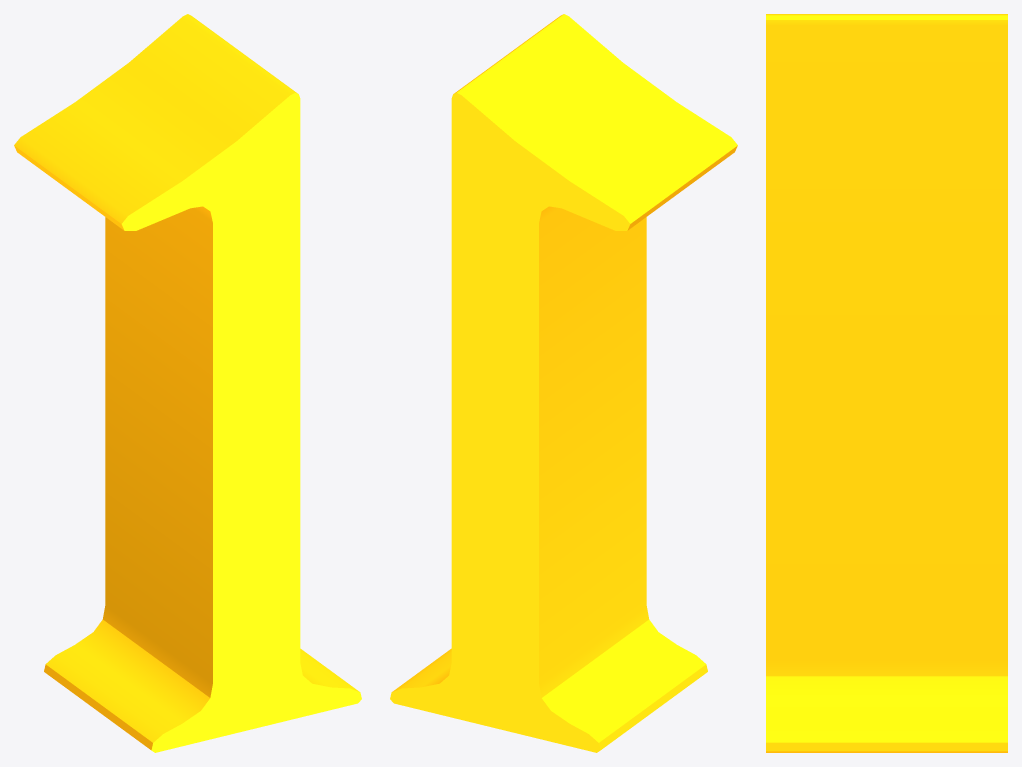
The model's file is cfc45bcb-61fd-452d-84f9-3c62d83179de.glb.
3 views of the same model, side by side, from view 1: azimuth 30°, elevation 25°; view 2: azimuth 150°, elevation 25°; view 3: azimuth 270°, elevation 25° (orthographic). The views are drawn at different scales.
Visible parts, largest first — view 1: 1_Soul_Yellow; view 2: 1_Soul_Yellow; view 3: 1_Soul_Yellow.
Boxes of the visible parts, bbox=[...] form: 1_Soul_Yellow: bbox=[14, 14, 361, 752]; 1_Soul_Yellow: bbox=[390, 14, 737, 752]; 1_Soul_Yellow: bbox=[766, 14, 1007, 752].
Size of what is drawn, in the model's own units: 0.058 by 0.1445 by 0.045.
Materials: 2 (2 with a texture image).
